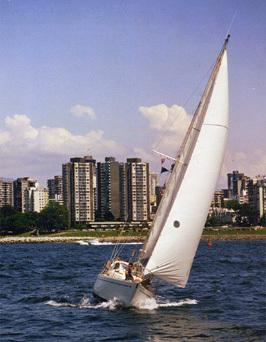Ship: (91, 30, 231, 310)
